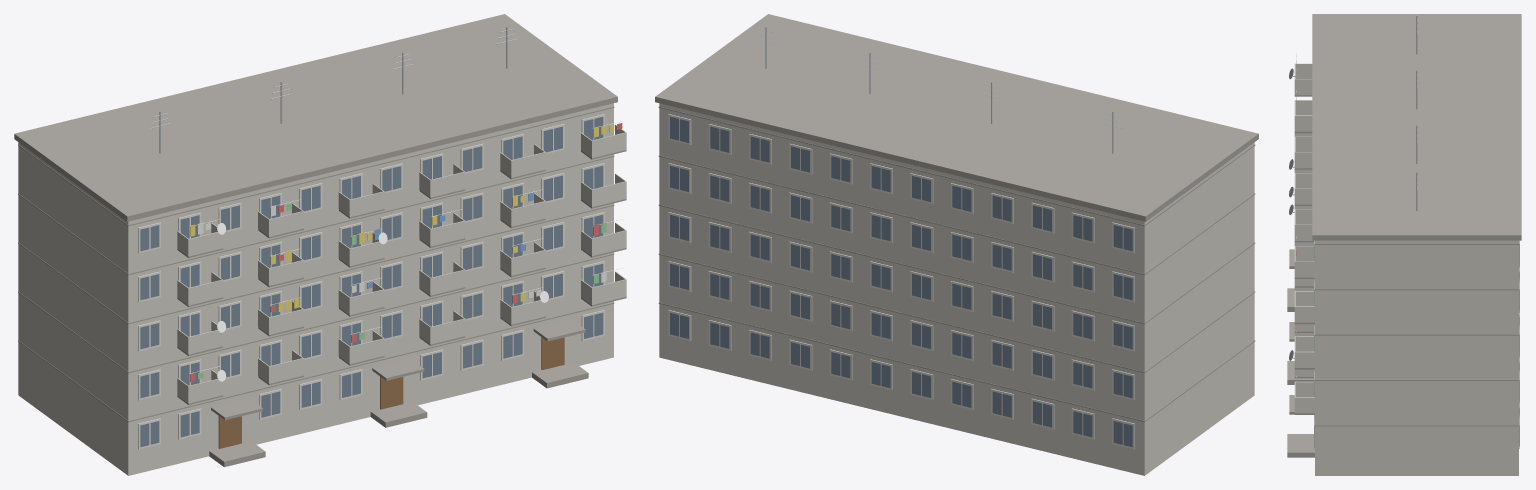
File: khrushchevka_yard.glb
3 views of the same model, side by side, from view 1: azimuth 30°, elevation 25°; view 2: azimuth 150°, elevation 25°; view 3: azimuth 270°, elevation 25° (orthographic). The views are drawn at different scales.
Parts seen in each view (by area): view 1: KhrushchevkaYard; view 2: KhrushchevkaYard; view 3: KhrushchevkaYard.
Boxes of the visible parts, bbox=[...] form: KhrushchevkaYard: bbox=[14, 14, 626, 475]; KhrushchevkaYard: bbox=[655, 14, 1258, 475]; KhrushchevkaYard: bbox=[1287, 14, 1521, 475].
Bounding box in the file's own units: 28.3 × 16.7 × 12.65.
